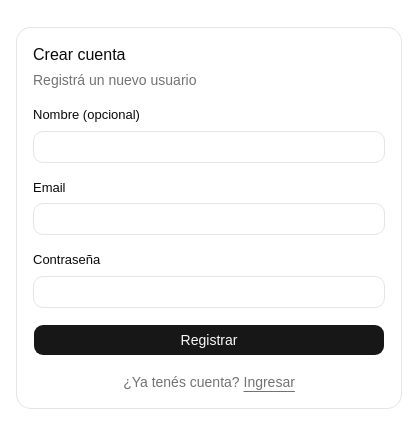
Test: Register page › shows an email format error when the email is malformed
The width and height of the screenshot is (419, 437).
Type "not-an-email" into the field labelled "Email" at coordinates (209, 219), box [33, 203, 385, 235]
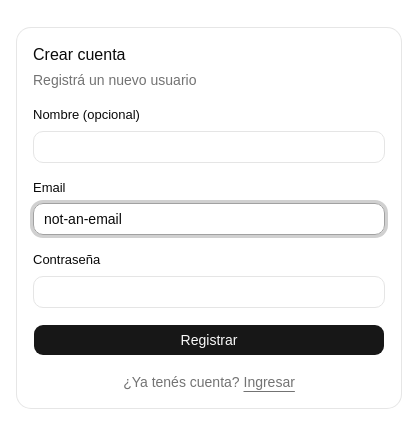
Type "ValidPassword1" into the password field labelled "Contraseña" at coordinates (209, 292), box [33, 276, 385, 308]
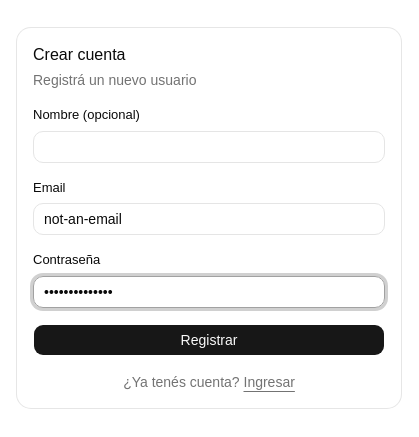
Click the button "Registrar" at coordinates (209, 340), box [33, 324, 385, 356]
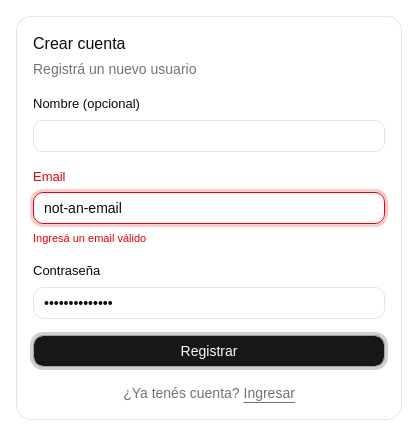
Check: the text "Ingresá un email válido" is shown, box [33, 230, 146, 246]
